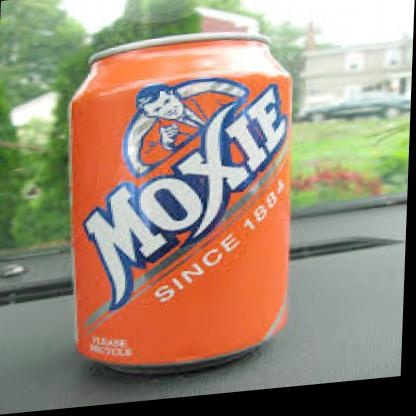trash: (71, 33, 290, 371)
